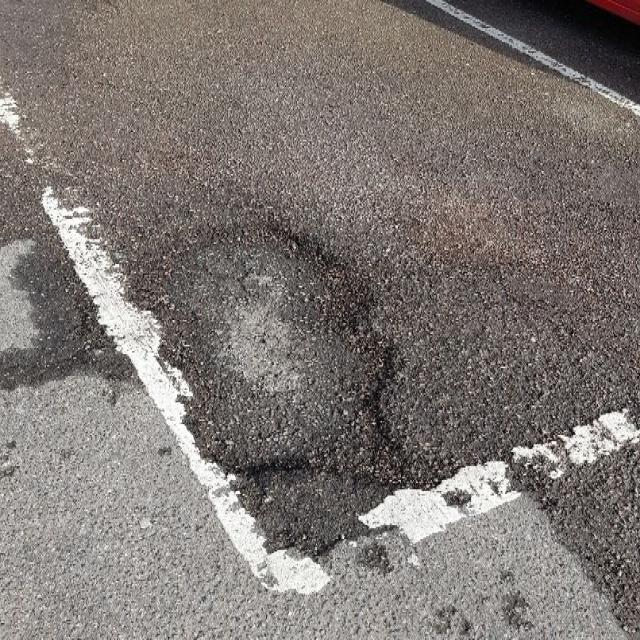pothole: (136, 206, 421, 504)
